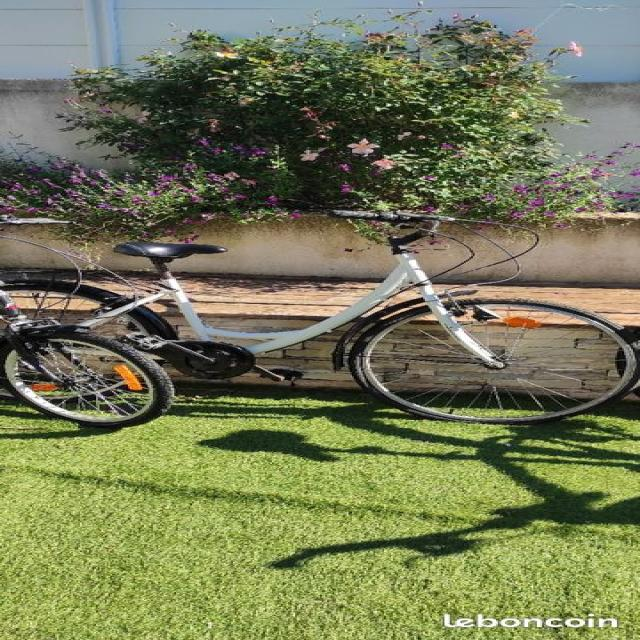Bike: (0, 209, 640, 427)
